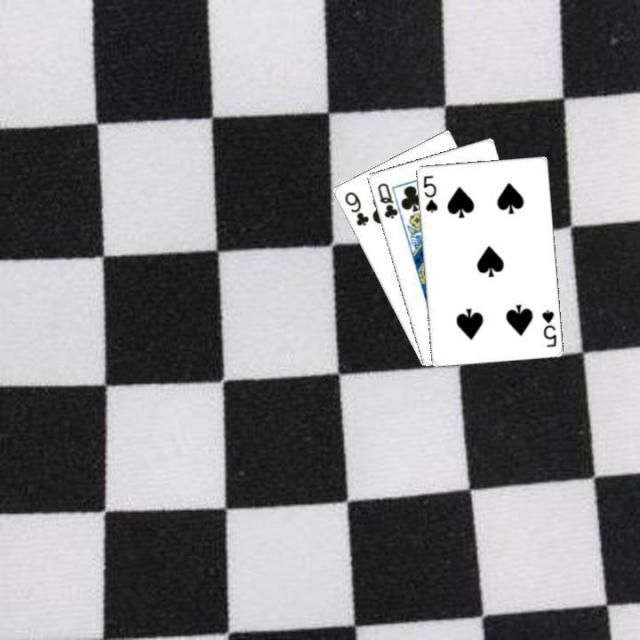5S: (419, 171, 439, 214), (538, 305, 558, 348)
9C: (340, 188, 370, 228)
QC: (373, 178, 399, 220)
